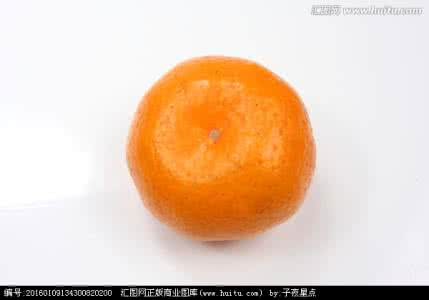orange: (119, 51, 322, 243)
